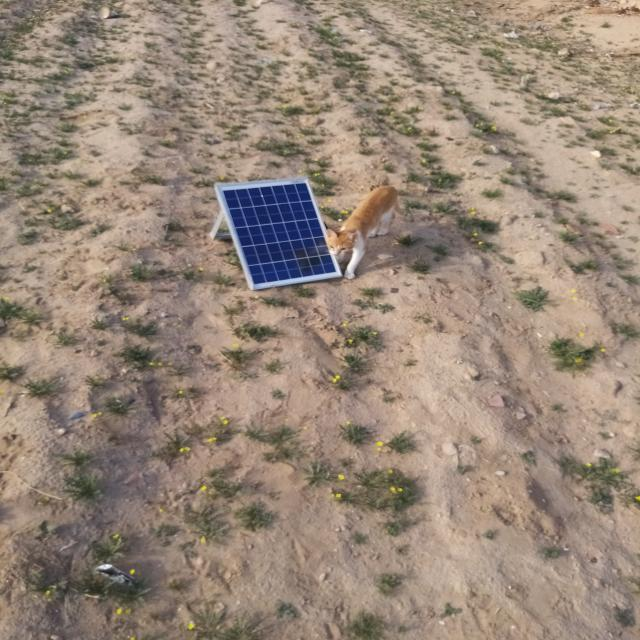no faulty: (218, 178, 338, 288)
